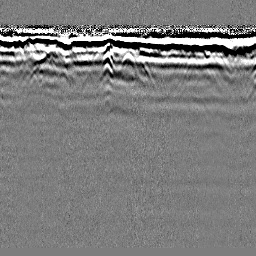cavity: (119, 50, 138, 71)
